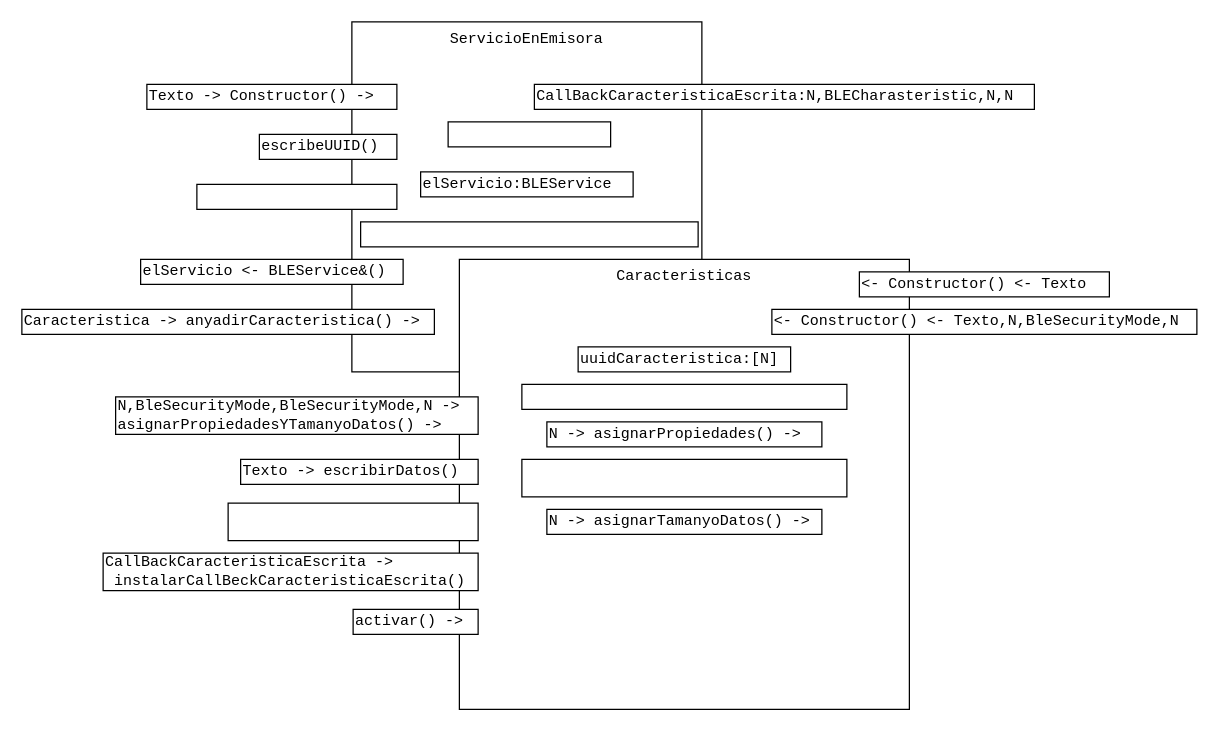
Some shapes in this 1219 by 731 pixel diagram are drawn without their labels. The shapes that lost their labels are listed below. From the top down, each one's centre as x and y in pixels, then its label:
At (529,134): "uuidServicio:[N]".
At (296,196): "activarServicio() <-".
At (528,234): "lasCaracteristicas:[Caracteristica]".
At (684,396): "laCaracteristica:BLECharacteristic".
At (684,477): "BleSecurityMode,BleSecurityMode -> asignarPermisos() ->".
At (352,521): "Texto -> NotificasDatos() N <-".
